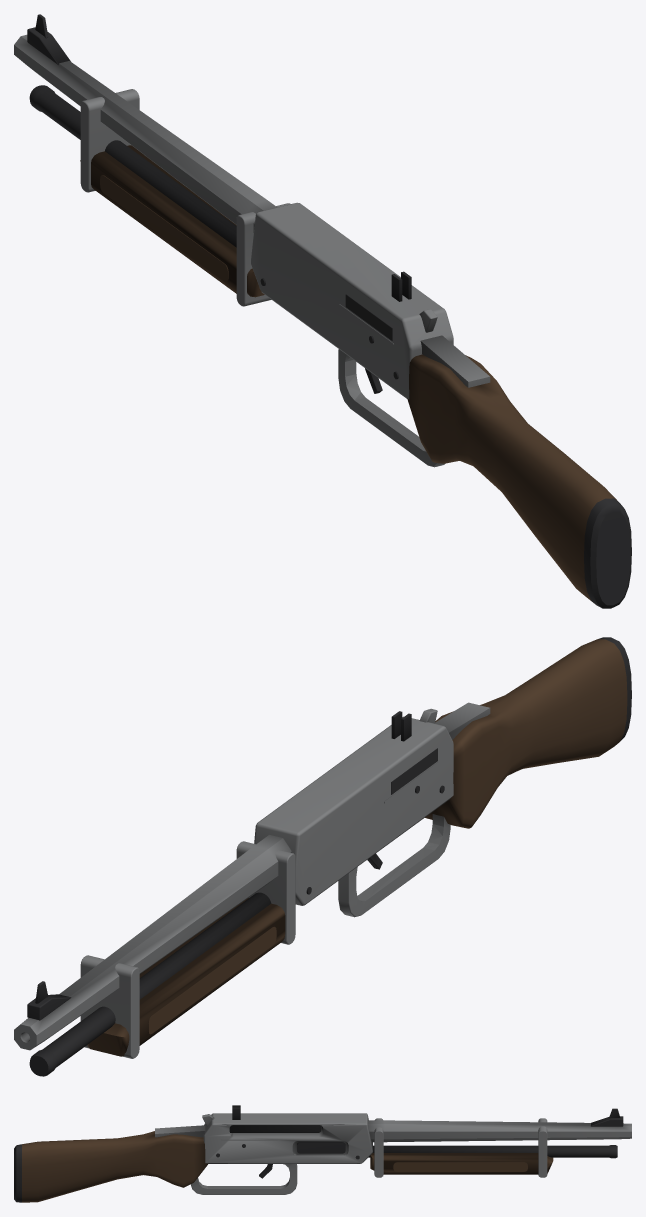
The model's file is fieldhand_lever.glb.
3 renders of one model, top to bottom at view 1: azimuth 30°, elevation 25°; view 2: azimuth 150°, elevation 25°; view 3: azimuth 270°, elevation 25°, orthographic. The views are drawn at different scales.
Parts seen in each view (by area): view 1: Stock, Receiver, Foregrip, Barrel, MagazineTube, Lever, IronSights; view 2: Receiver, Stock, Foregrip, Barrel, MagazineTube, Lever, IronSights; view 3: Stock, Receiver, Barrel, Foregrip, MagazineTube, Lever, Bolt, IronSights.
Boxes of the visible parts, x1,y1,x2,y2 form: Stock: (407, 354, 631, 608); Receiver: (251, 202, 490, 399); Foregrip: (80, 89, 290, 306); Barrel: (14, 34, 276, 232); MagazineTube: (29, 85, 236, 247); Lever: (338, 349, 444, 467); IronSights: (27, 14, 411, 301); Receiver: (254, 702, 490, 905); Stock: (425, 637, 631, 828); Foregrip: (80, 841, 295, 1058); Barrel: (14, 835, 291, 1050); MagazineTube: (29, 892, 271, 1076); Lever: (338, 814, 450, 917); IronSights: (27, 711, 411, 1020); Stock: (14, 1131, 207, 1202); Receiver: (155, 1113, 372, 1163); Barrel: (368, 1120, 631, 1142); Foregrip: (370, 1118, 553, 1177); MagazineTube: (368, 1145, 617, 1158); Lever: (191, 1164, 297, 1194); Bolt: (202, 1114, 320, 1132); IronSights: (232, 1105, 623, 1126).
Bounding box in the file's own units: 0.054 × 0.182 × 1.07.
